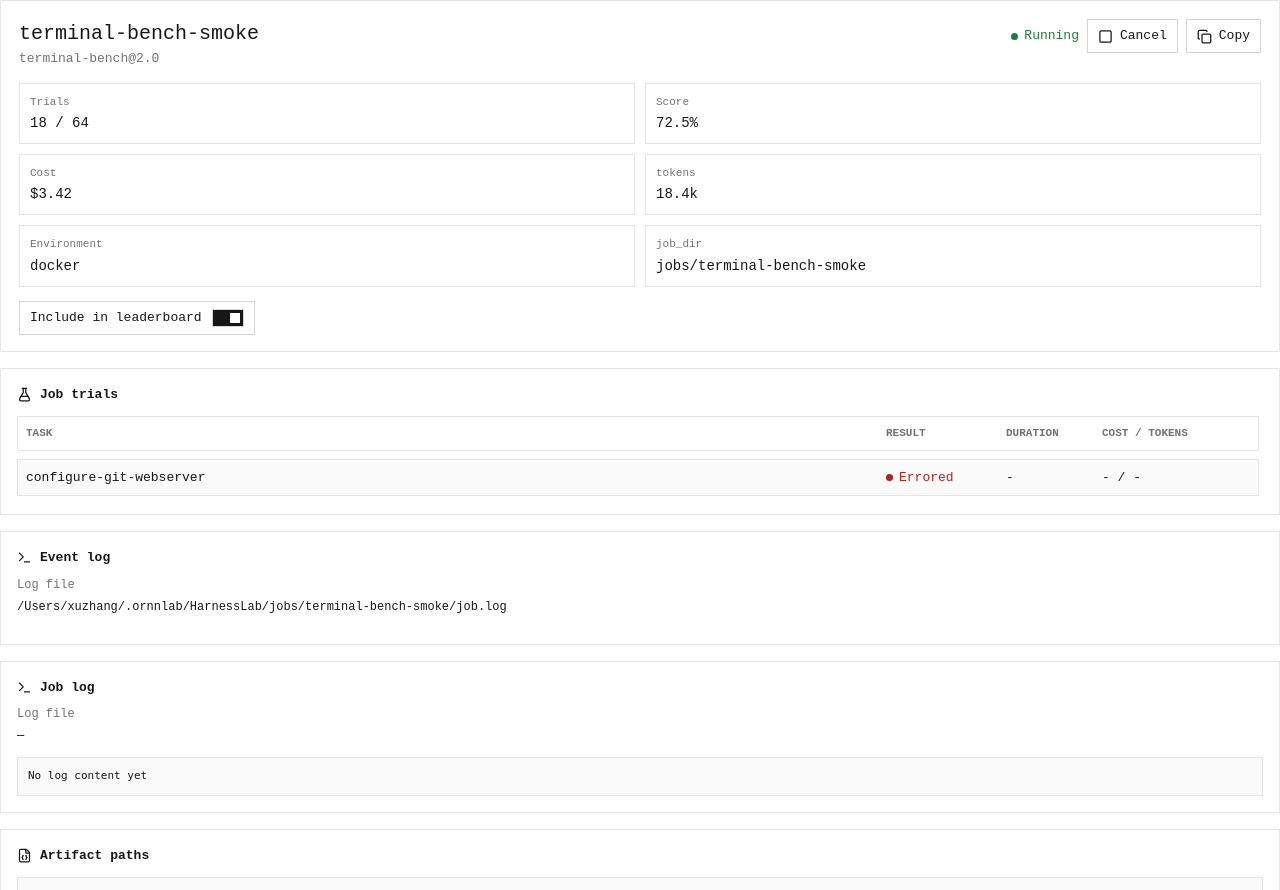
Test case: DetailRail Job actions › renders the trial failure reason in the expanded detail
The width and height of the screenshot is (1280, 890).
What coordinates should you click on to do the following:
click the button "configure-git-webserver errored - - / -"
I would click on:
 (116, 477)
Its box is [17,459,1259,496].
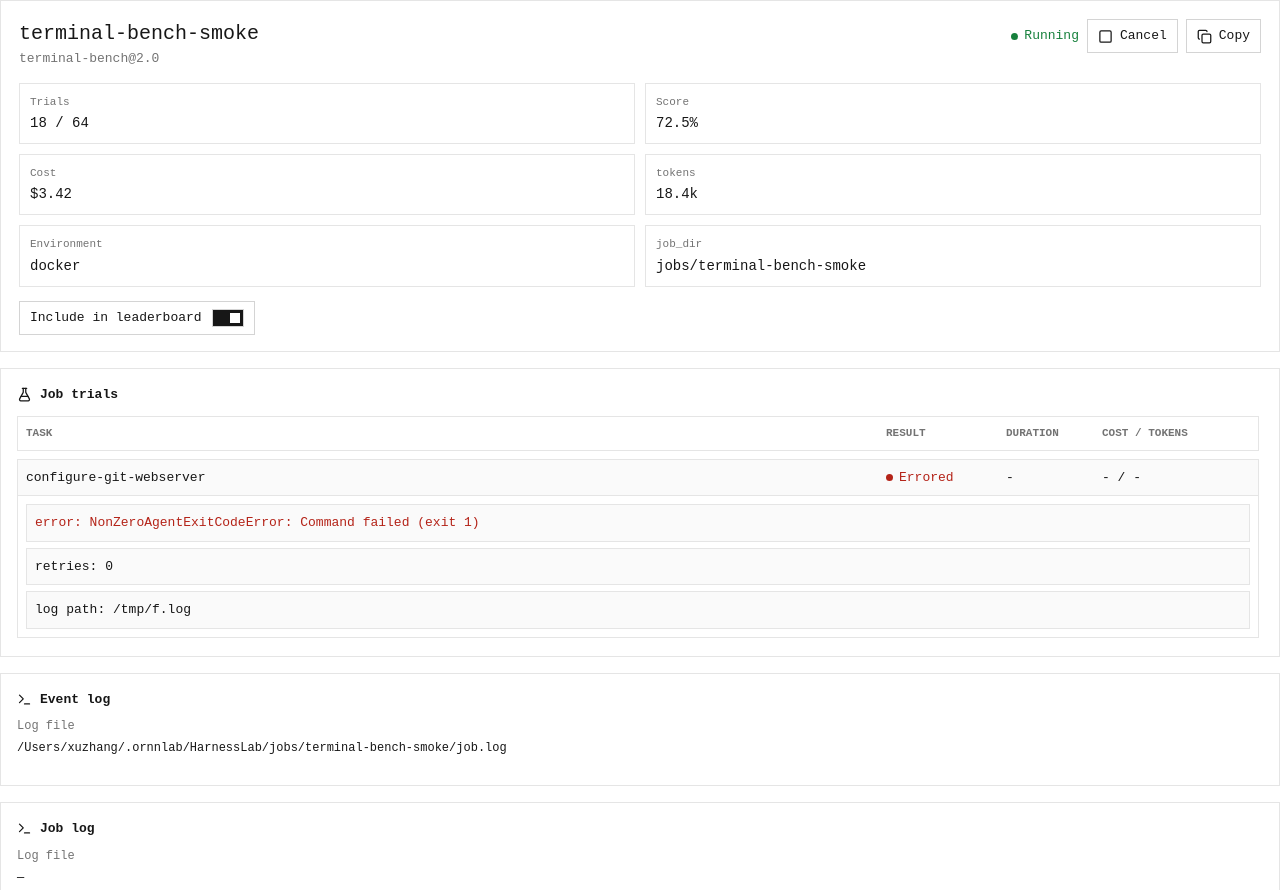
Check: the text "error: NonZeroAgentExitCodeError: Command failed (exit 1)" is shown, box [26,504,1250,542]
